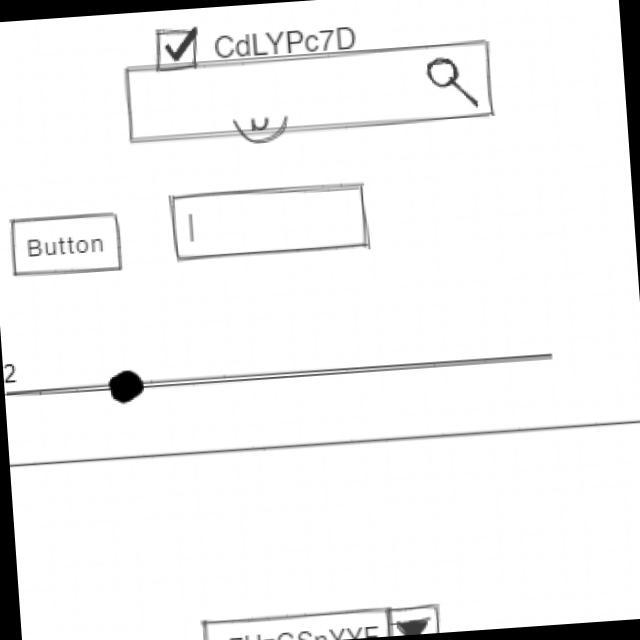button: (7, 207, 129, 283)
checkbox: (151, 13, 362, 74)
container: (9, 415, 640, 640)
input: (166, 177, 376, 268)
search: (122, 41, 499, 151)
select: (23, 337, 559, 414), (196, 598, 443, 640)
